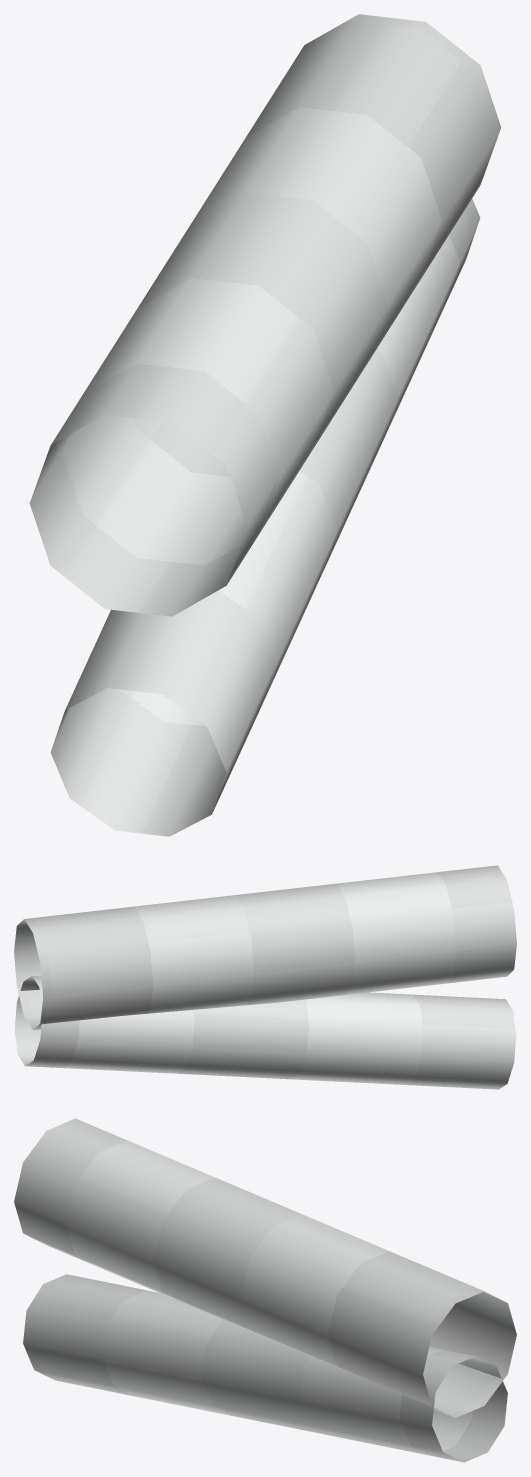
File: trusssignalarm_diagonal5_c6.obj
3 views of the same model, one above another, from view 1: azimuth 30°, elevation 25°; view 2: azimuth 150°, elevation 25°; view 3: azimuth 270°, elevation 25° (orthographic). The views are drawn at different scales.
Visible parts, largest first — view 1: trusssignalarm_diagonal5_c6; view 2: trusssignalarm_diagonal5_c6; view 3: trusssignalarm_diagonal5_c6.
Boxes of the visible parts, bbox=[...] form: trusssignalarm_diagonal5_c6: bbox=[29, 14, 501, 836]; trusssignalarm_diagonal5_c6: bbox=[14, 865, 516, 1089]; trusssignalarm_diagonal5_c6: bbox=[14, 1118, 516, 1462].
Size of the model in its own units: 1.23 by 0.67 by 1.23.
